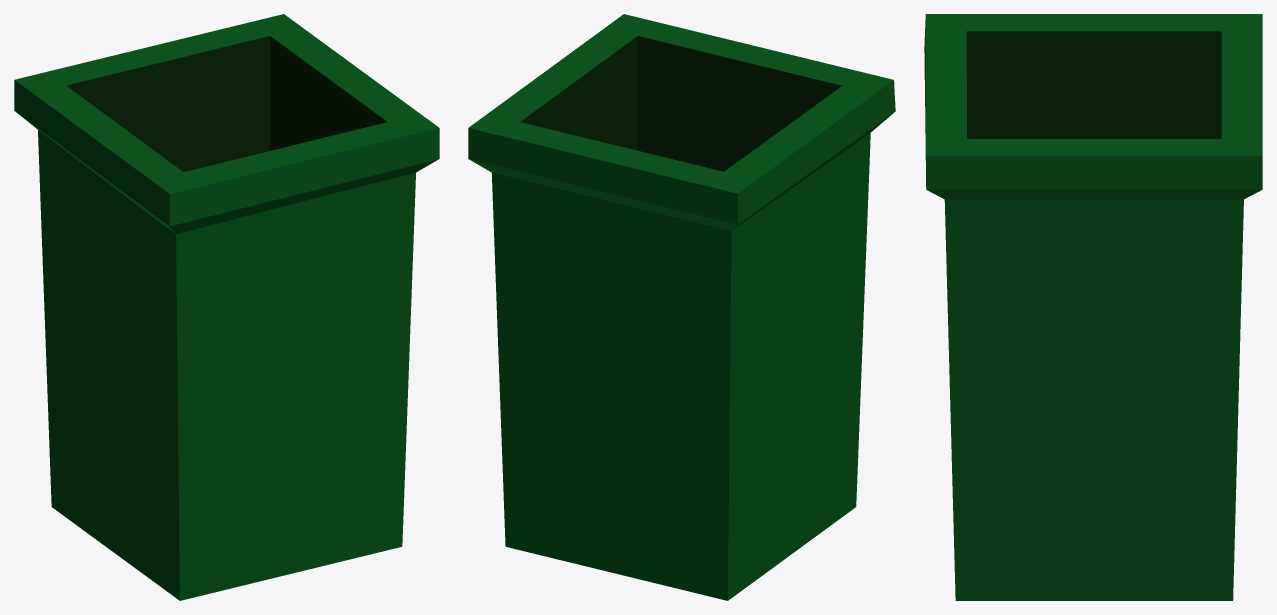
File: TrashCan.fbx
The picture shows the model from 3 angles, left to right: view 1: azimuth 30°, elevation 25°; view 2: azimuth 150°, elevation 25°; view 3: azimuth 270°, elevation 25°; orthographic projection. The views are drawn at different scales.
Visible parts, largest first — view 1: Cube; view 2: Cube; view 3: Cube.
Part boxes in pixels (bbox=[...]): Cube: bbox=[14, 14, 439, 600]; Cube: bbox=[468, 14, 895, 600]; Cube: bbox=[924, 14, 1262, 600].
Size of the model in its own units: 50.26 by 75 by 50.26.
